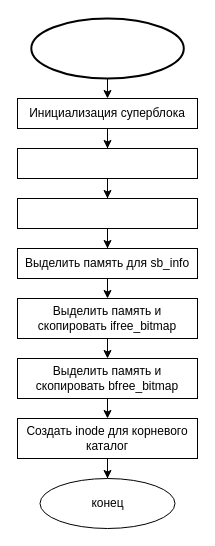
This 215x546 diagram has some shape labels left out. Here are the shapes that lost their labels. From the top down, the centre of each, then its label:
At [107,48]: "Начало myfs_fill_super()".
At [107,163]: "Чтение суперблока с диска".
At [107,213]: "Проверить магический номер".
